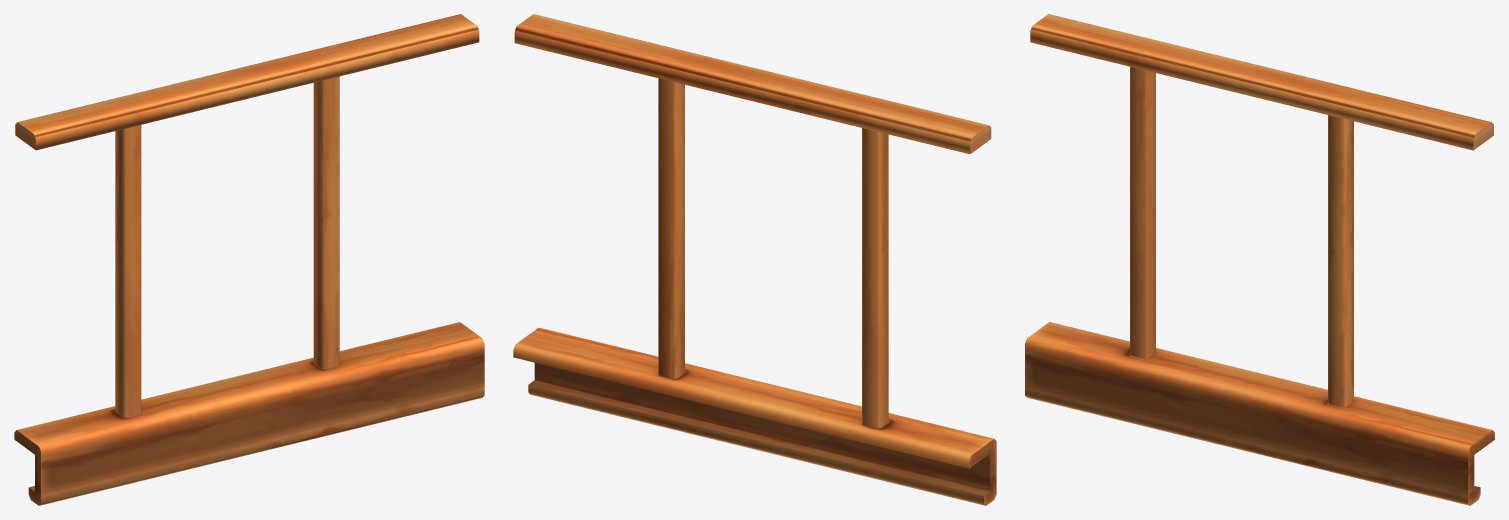
Rendered from PropStairs01PTypeA3.FBX.
3 views of the same model, side by side, from view 1: azimuth 30°, elevation 25°; view 2: azimuth 150°, elevation 25°; view 3: azimuth 330°, elevation 25° (orthographic). The views are drawn at different scales.
Parts seen in each view (by area): view 1: PropStairs01PTypeA3; view 2: PropStairs01PTypeA3; view 3: PropStairs01PTypeA3.
Boxes of the visible parts, x1,y1,x2,y2 form: PropStairs01PTypeA3: [14, 14, 484, 505]; PropStairs01PTypeA3: [513, 14, 996, 505]; PropStairs01PTypeA3: [1025, 14, 1494, 505].
Size of what is drawn, in the model's own units: 1.25 by 0.9916 by 0.1304.
